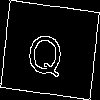Q: (25, 25, 66, 79)
